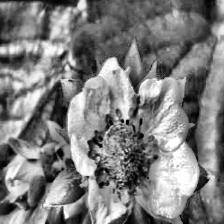Blossom Blight: (86, 105, 161, 206)
